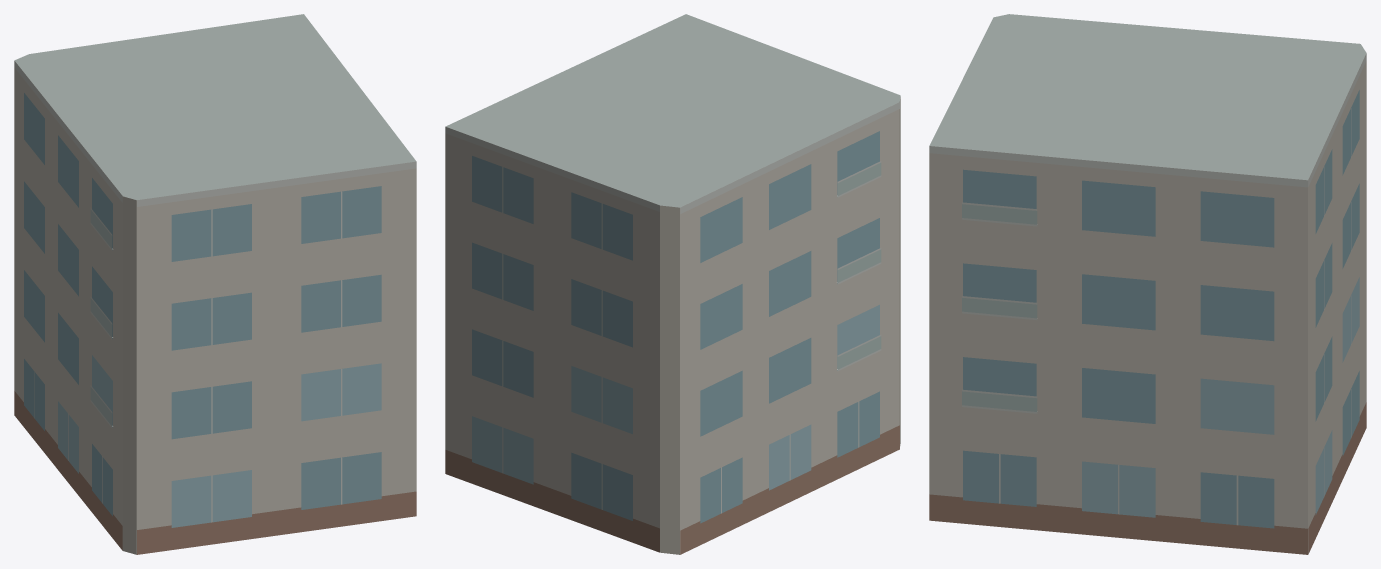
The model's file is survey-upis-33020527.glb.
The picture shows the model from 3 angles, left to right: view 1: azimuth 30°, elevation 25°; view 2: azimuth 150°, elevation 25°; view 3: azimuth 270°, elevation 25°; orthographic projection. The views are drawn at different scales.
Visible parts, largest first — view 1: survey-upis-33020527.tmp; view 2: survey-upis-33020527.tmp; view 3: survey-upis-33020527.tmp.
Boxes of the visible parts, x1,y1,x2,y2 form: survey-upis-33020527.tmp: (14, 14, 416, 554); survey-upis-33020527.tmp: (445, 14, 900, 554); survey-upis-33020527.tmp: (929, 14, 1366, 554).
Bounding box in the file's own units: 12.1 × 12.7 × 13.45.
